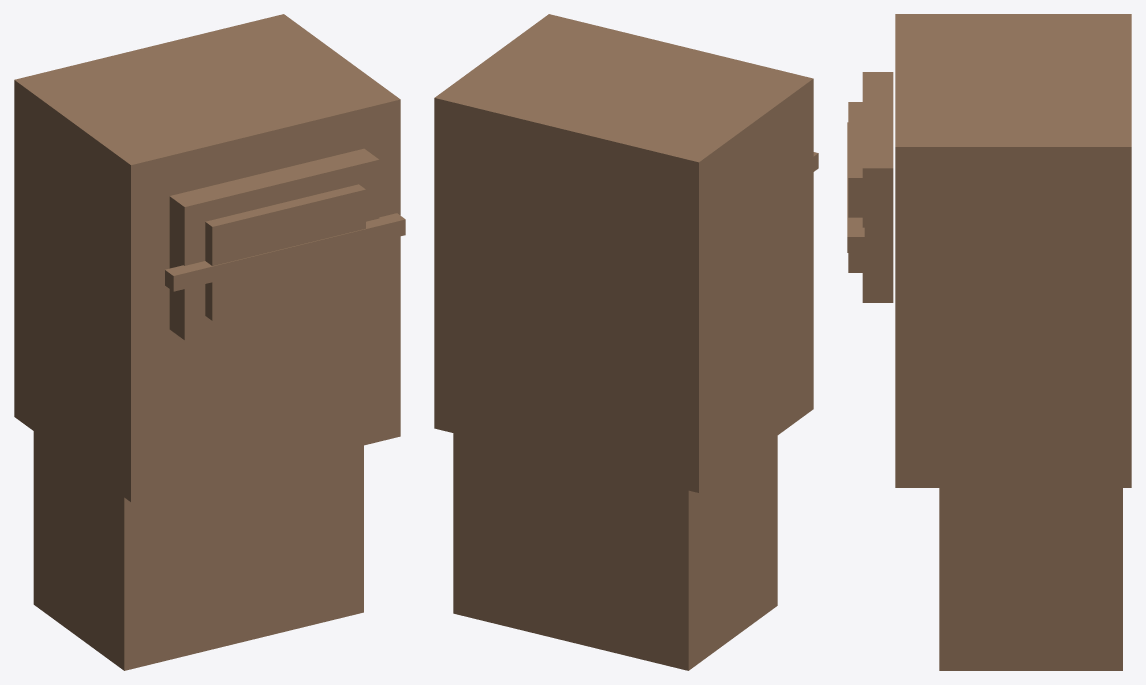
Rendered from placeholder-welding-hood.gltf.
The picture shows the model from 3 angles, left to right: view 1: azimuth 30°, elevation 25°; view 2: azimuth 150°, elevation 25°; view 3: azimuth 270°, elevation 25°; orthographic projection. The views are drawn at different scales.
Visible parts, largest first — view 1: Shell_Main, NeckGuard_Extended, Visor_Frame, Visor_Lens, Rivets; view 2: Shell_Main, NeckGuard_Extended; view 3: Shell_Main, NeckGuard_Extended, Visor_Frame, Visor_Lens, Rivets.
Boxes of the visible parts, x1,y1,x2,y2 form: Shell_Main: [14, 14, 400, 502]; NeckGuard_Extended: [33, 431, 363, 670]; Visor_Frame: [169, 148, 379, 340]; Visor_Lens: [205, 184, 365, 320]; Rivets: [165, 213, 405, 291]; Shell_Main: [434, 14, 813, 492]; NeckGuard_Extended: [453, 433, 777, 670]; Shell_Main: [895, 14, 1131, 487]; NeckGuard_Extended: [939, 488, 1122, 670]; Visor_Frame: [862, 72, 893, 302]; Visor_Lens: [848, 102, 862, 272]; Rivets: [847, 122, 864, 252].
Bounding box in the file's own units: 0.36 × 0.67 × 0.325.
